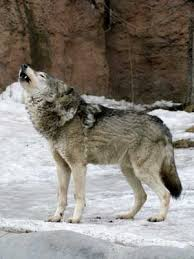Lobo: (10, 57, 177, 241)
